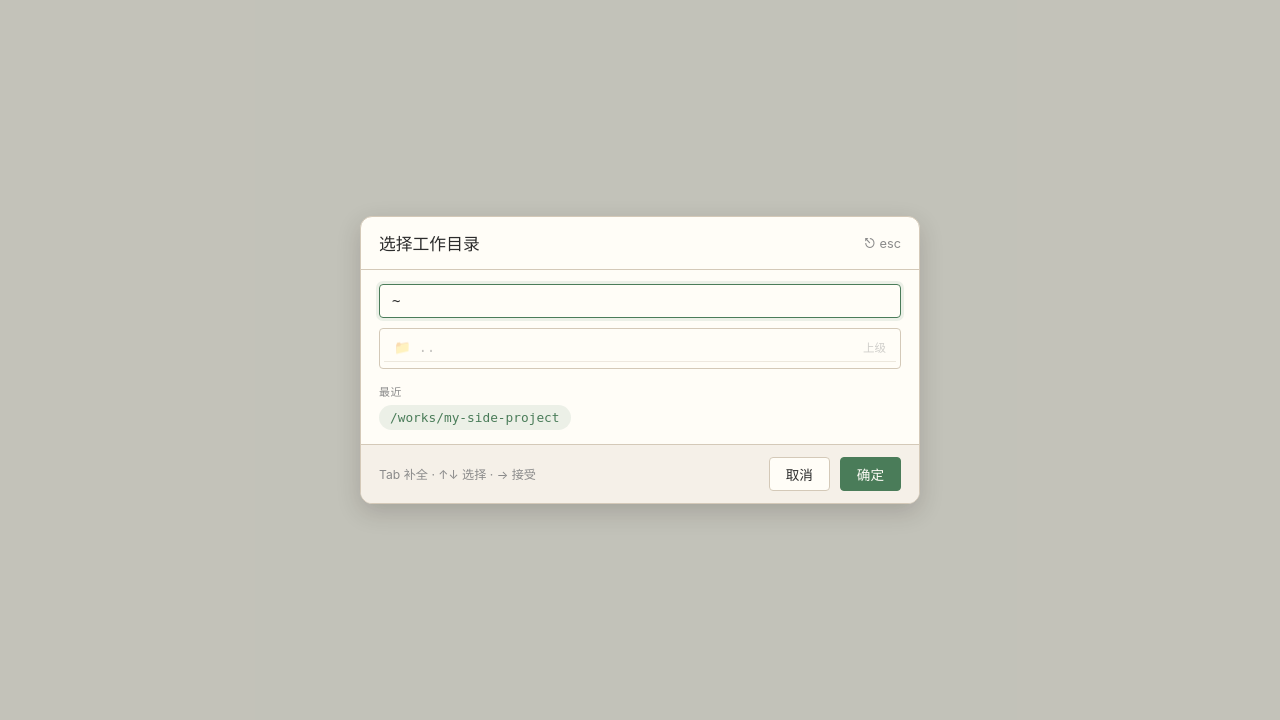
Test case: WorkdirPicker › clicking a recent fills the input
Step 1. Click the button "/works/my-side-project" → (475, 418), box x1=379 y1=405 x2=570 y2=430
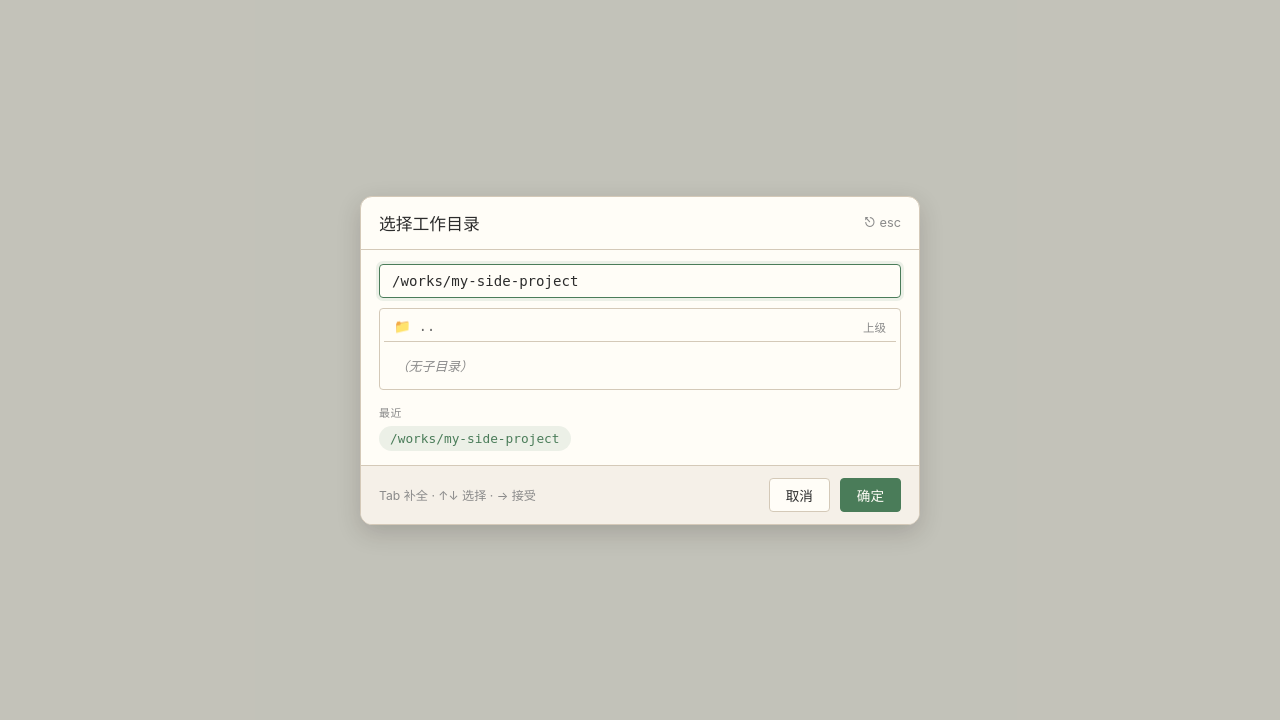
Expected: the field named "工作目录" holds "/works/my-side-project", x1=379 y1=264 x2=901 y2=298
